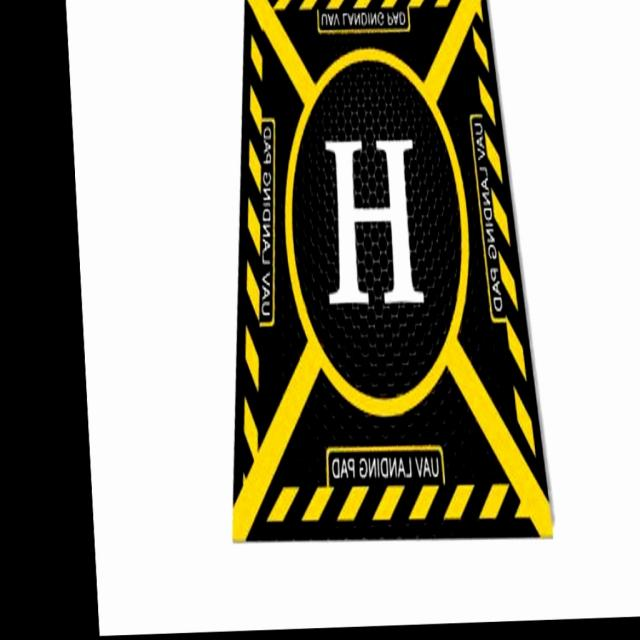helipad: (279, 46, 472, 420)
